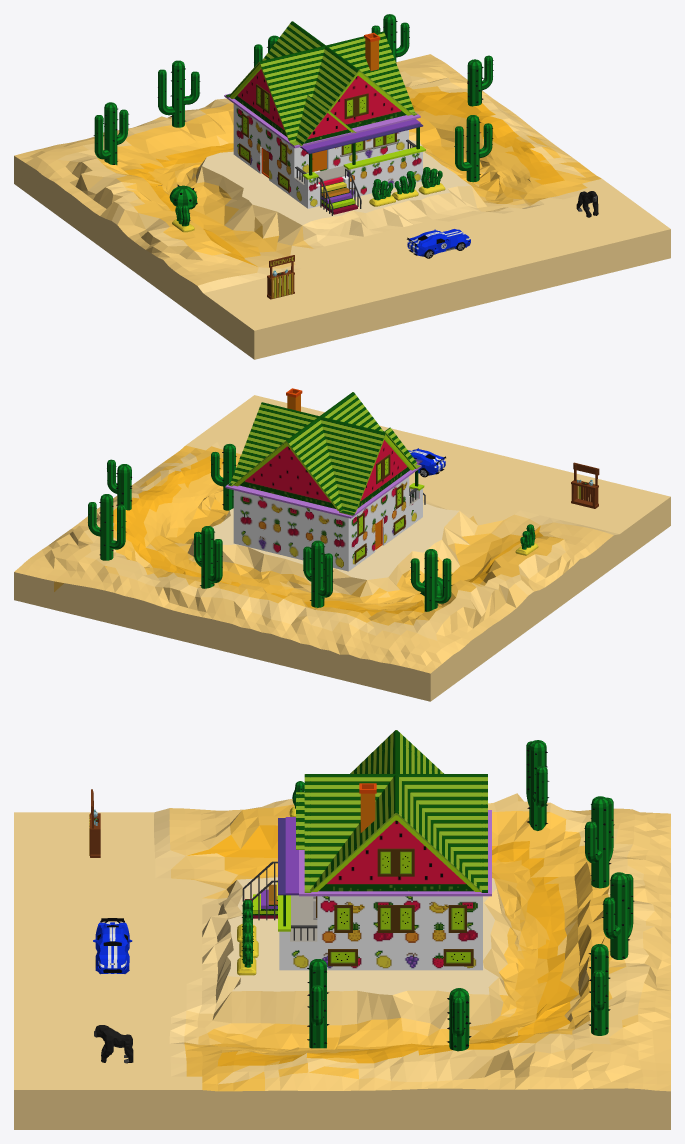
3 views of the same model, one above another, from view 1: azimuth 30°, elevation 25°; view 2: azimuth 150°, elevation 25°; view 3: azimuth 270°, elevation 25° (orthographic). The views are drawn at different scales.
Visible parts, largest first — view 1: Cube.001, Cube.1063, Cylinder.037, Cylinder.044, Cylinder.045, VEHICLES_RACING_CAR, Cylinder.038, OBJRANDOM_LEMONADE_STAND, Cylinder.042, Cylinder.039, Cylinder.041, Sphere.023 (+1 smaller); view 2: Cube.001, Cube.1063, Cylinder.042, Cylinder.045, Cylinder.044, Cylinder.043, Cylinder.037, OBJRANDOM_LEMONADE_STAND, Cylinder.038, VEHICLES_RACING_CAR; view 3: Cube.001, Cube.1063, Cylinder.043, Cylinder.044, VEHICLES_RACING_CAR, Cylinder.045, Cylinder.042, Cylinder.037, Cylinder.038, ANIMAL_GORILA, Cylinder.041, OBJRANDOM_LEMONADE_STAND.
Part boxes in pixels (<box>): Cube.001: <box>14,54,670,359</box>; Cube.1063: <box>224,21,425,215</box>; Cylinder.037: <box>454,115,493,182</box>; Cylinder.044: <box>157,60,200,127</box>; Cylinder.045: <box>93,102,129,164</box>; VEHICLES_RACING_CAR: <box>407,229,470,258</box>; Cylinder.038: <box>467,55,493,106</box>; OBJRANDOM_LEMONADE_STAND: <box>267,255,294,299</box>; Cylinder.042: <box>371,14,409,62</box>; Cylinder.039: <box>369,179,395,206</box>; Cylinder.041: <box>418,167,445,194</box>; Sphere.023: <box>169,184,197,209</box>; Cube.001: <box>14,395,670,701</box>; Cube.1063: <box>225,388,425,571</box>; Cylinder.042: <box>88,494,126,560</box>; Cylinder.045: <box>410,549,452,611</box>; Cylinder.044: <box>303,540,333,607</box>; Cylinder.043: <box>193,526,222,588</box>; Cylinder.037: <box>211,444,240,510</box>; OBJRANDOM_LEMONADE_STAND: <box>571,462,599,508</box>; Cylinder.038: <box>107,459,131,510</box>; VEHICLES_RACING_CAR: <box>408,448,445,477</box>; Cube.001: <box>14,793,670,1129</box>; Cube.1063: <box>242,730,491,970</box>; Cylinder.043: <box>602,872,634,959</box>; Cylinder.044: <box>584,796,614,888</box>; VEHICLES_RACING_CAR: <box>93,918,132,974</box>; Cylinder.045: <box>526,740,549,830</box>; Cylinder.042: <box>588,944,610,1035</box>; Cylinder.037: <box>307,959,329,1048</box>; Cylinder.038: <box>447,988,471,1051</box>; ANIMAL_GORILA: <box>94,1025,133,1063</box>; Cylinder.041: <box>237,932,256,975</box>; OBJRANDOM_LEMONADE_STAND: <box>89,789,100,857</box>.
Size of the model in its own units: 4002 by 1605 by 4001.
Materials: 36 (4 with a texture image).
